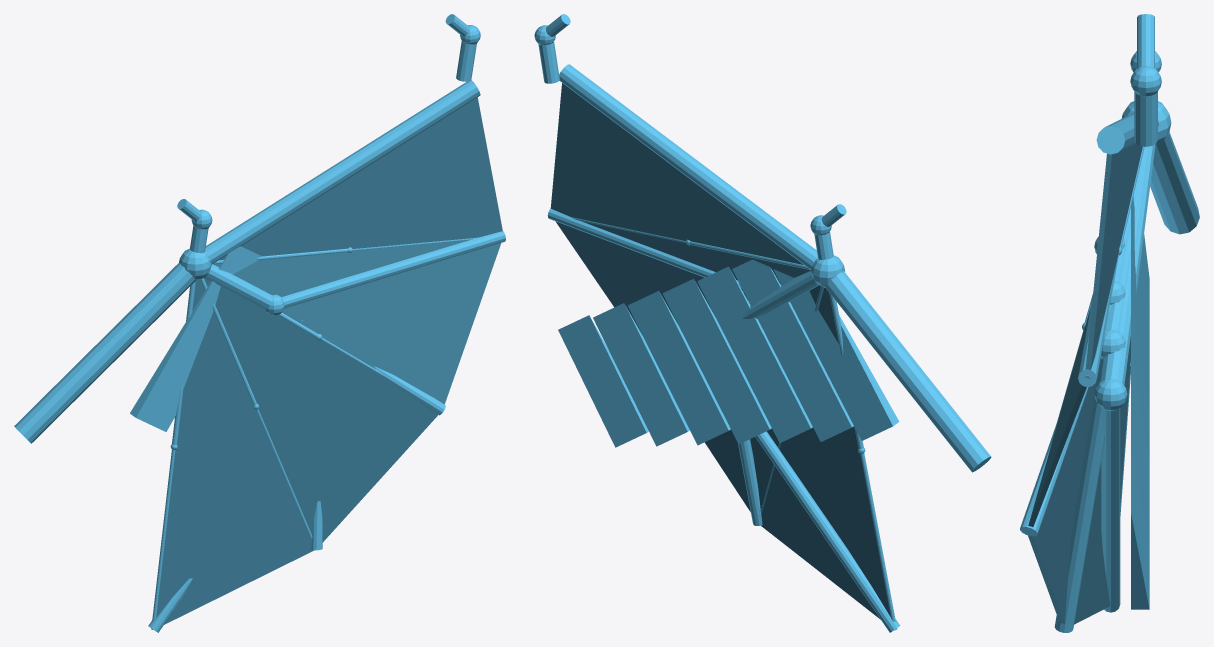
Rendered from WaterWingRight.obj.
3 views of the same model, side by side, from view 1: azimuth 30°, elevation 25°; view 2: azimuth 150°, elevation 25°; view 3: azimuth 270°, elevation 25° (orthographic). The views are drawn at different scales.
Parts seen in each view (by area): view 1: WaterWingRight; view 2: WaterWingRight; view 3: WaterWingRight.
Part boxes in pixels (x1,y1,x2,y2): WaterWingRight: (14, 14, 505, 632); WaterWingRight: (534, 14, 991, 632); WaterWingRight: (1020, 14, 1199, 632).
Size of the model in its own units: 6.81 by 7.61 by 1.53.
